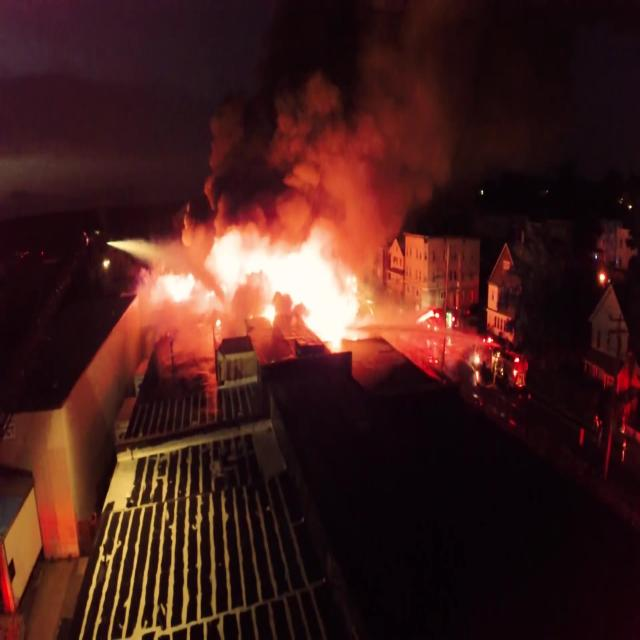smoke: (234, 104, 400, 218)
